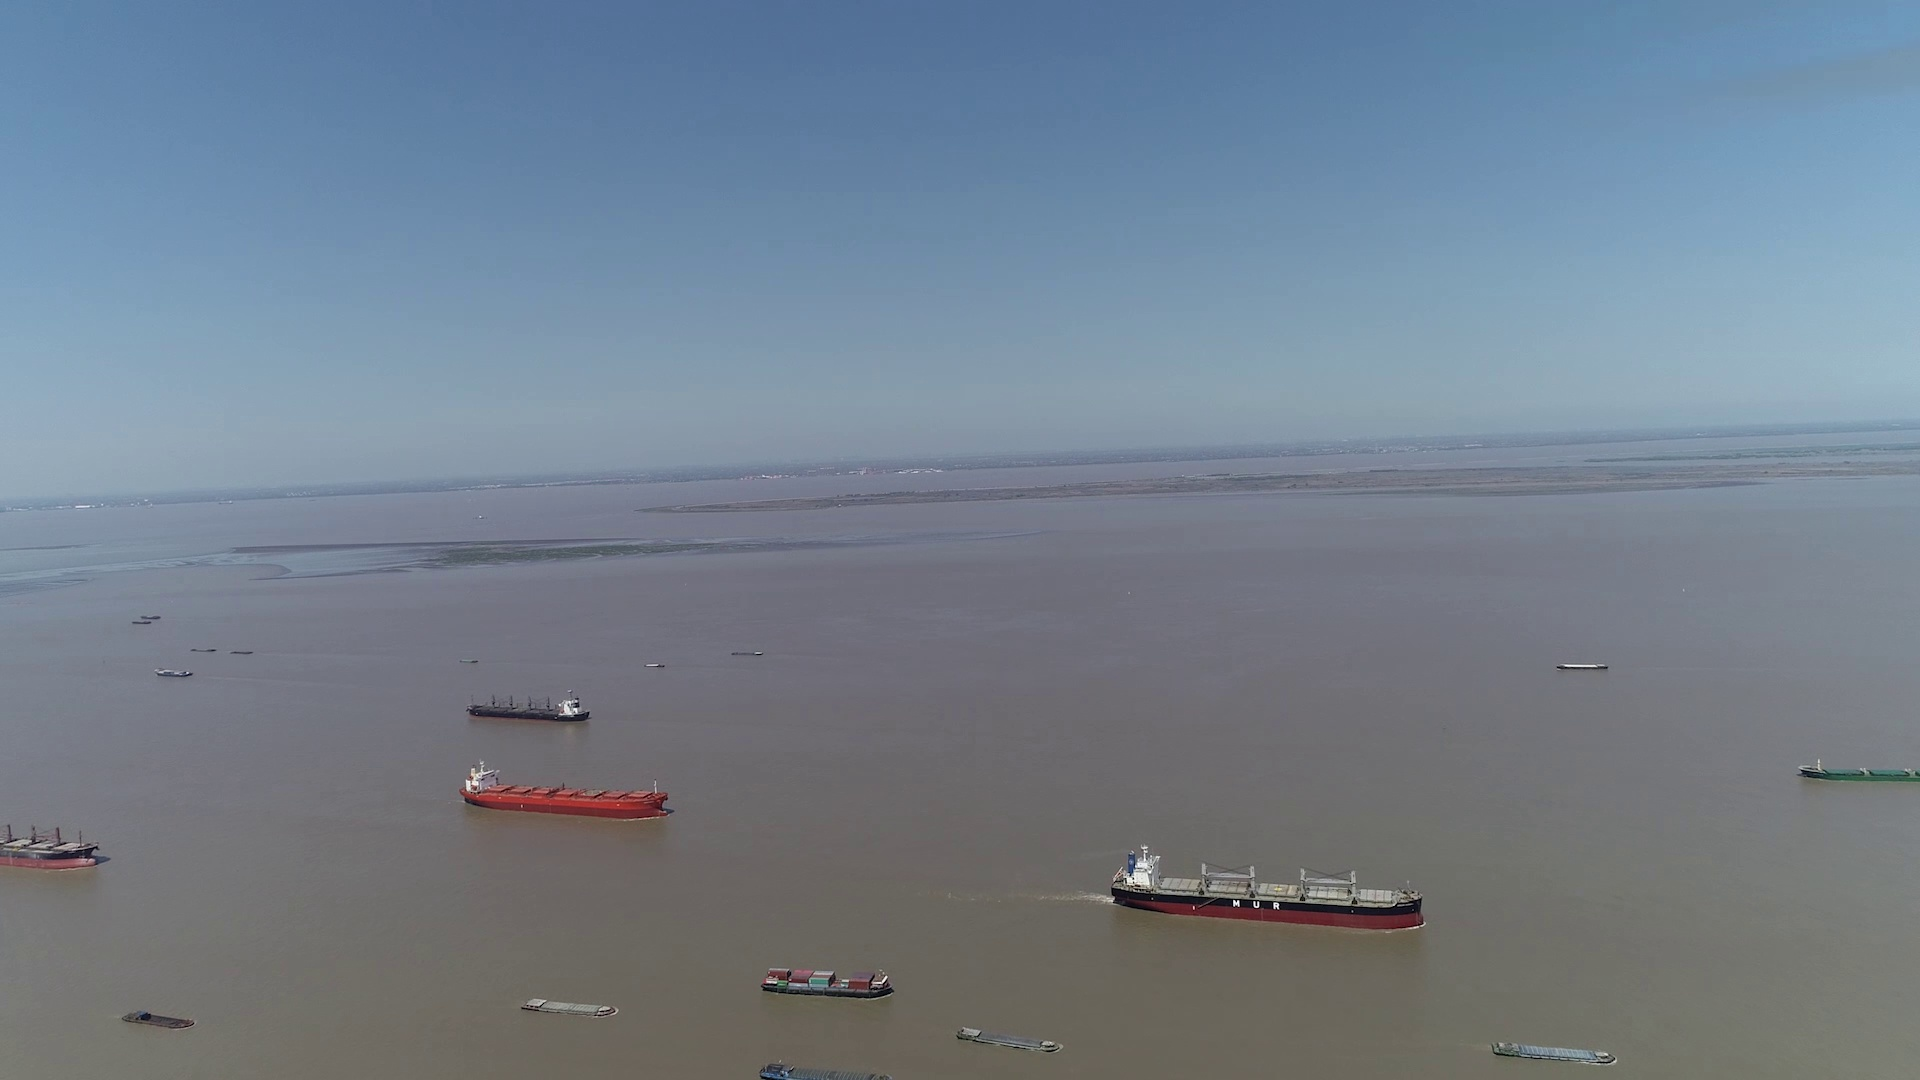ship: (1109, 844, 1425, 931), (462, 760, 669, 819), (0, 811, 102, 872), (851, 1048, 992, 1079), (762, 967, 893, 998), (465, 690, 591, 723), (1491, 1039, 1617, 1065), (1797, 760, 1919, 783), (956, 1027, 1062, 1054), (764, 1060, 887, 1080), (522, 996, 617, 1018), (125, 1011, 196, 1029), (1553, 662, 1609, 671), (156, 667, 193, 676)
